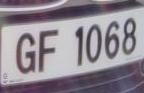0: (84, 20, 105, 68)
1: (70, 20, 87, 74)
6: (103, 17, 122, 65)
8: (122, 15, 139, 62)
F: (37, 25, 62, 79)
G: (13, 26, 38, 82)
